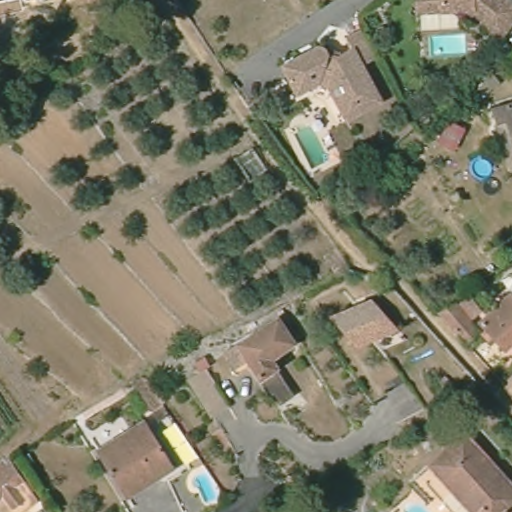pool: (286, 119, 333, 171), (426, 31, 474, 62), (187, 467, 226, 504), (464, 152, 499, 181)
